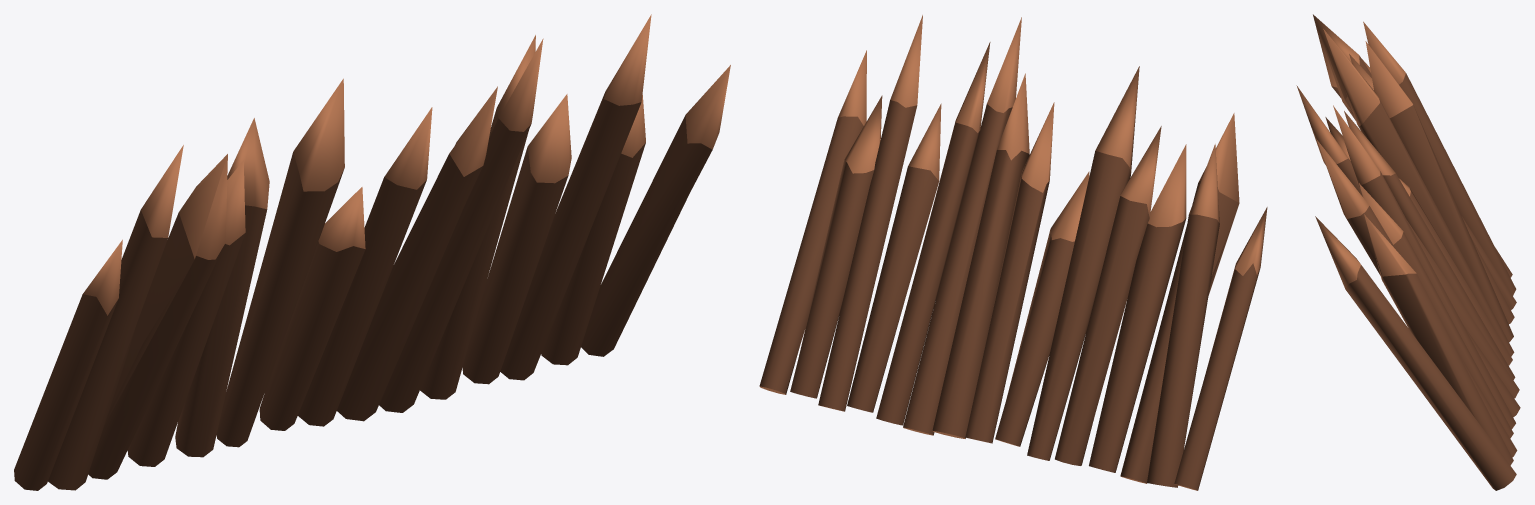
File: wooden budged.fbx
The picture shows the model from 3 angles, left to right: view 1: azimuth 30°, elevation 25°; view 2: azimuth 150°, elevation 25°; view 3: azimuth 270°, elevation 25°; orthographic projection. The views are drawn at different scales.
Visible parts, largest first — view 1: wooden_budged10, wooden_budged5, wooden_budged12, wooden_budged8, wooden_budged1, wooden_budged14, wooden_budged7, wooden_budged3, wooden_budged4, wooden_budged11, wooden_budged, wooden_budged6 (+3 smaller); view 2: wooden_budged10, wooden_budged8, wooden_budged2, wooden_budged12, wooden_budged14, wooden_budged4, wooden_budged, wooden_budged13, wooden_budged3, wooden_budged1, wooden_budged9, wooden_budged7 (+3 smaller); view 3: wooden_budged7, wooden_budged9, wooden_budged, wooden_budged10, wooden_budged13, wooden_budged4, wooden_budged3, wooden_budged1, wooden_budged12, wooden_budged14, wooden_budged5, wooden_budged8 (+2 smaller).
Part boxes in pixels (bbox=[...]): wooden_budged10: bbox=[216, 78, 344, 447]; wooden_budged5: bbox=[88, 154, 227, 479]; wooden_budged12: bbox=[500, 14, 651, 380]; wooden_budged8: bbox=[337, 86, 497, 421]; wooden_budged1: bbox=[462, 94, 571, 384]; wooden_budged14: bbox=[379, 38, 543, 412]; wooden_budged7: bbox=[581, 65, 730, 356]; wooden_budged3: bbox=[298, 107, 432, 426]; wooden_budged4: bbox=[48, 145, 183, 490]; wooden_budged11: bbox=[259, 187, 365, 430]; wooden_budged: bbox=[175, 118, 269, 457]; wooden_budged6: bbox=[14, 239, 122, 490]; wooden_budged10: bbox=[1027, 66, 1139, 460]; wooden_budged8: bbox=[932, 73, 1029, 438]; wooden_budged2: bbox=[1089, 144, 1186, 472]; wooden_budged12: bbox=[818, 15, 922, 411]; wooden_budged14: bbox=[903, 17, 1021, 435]; wooden_budged4: bbox=[1147, 144, 1219, 487]; wooden_budged: bbox=[1055, 126, 1161, 465]; wooden_budged13: bbox=[876, 42, 990, 425]; wooden_budged3: bbox=[965, 102, 1054, 443]; wooden_budged1: bbox=[847, 103, 941, 412]; wooden_budged9: bbox=[790, 95, 882, 398]; wooden_budged7: bbox=[759, 50, 866, 394]; wooden_budged7: bbox=[1315, 216, 1516, 490]; wooden_budged9: bbox=[1364, 214, 1513, 465]; wooden_budged: bbox=[1365, 41, 1513, 342]; wooden_budged10: bbox=[1323, 29, 1514, 356]; wooden_budged13: bbox=[1333, 105, 1515, 428]; wooden_budged4: bbox=[1363, 21, 1516, 295]; wooden_budged3: bbox=[1344, 111, 1515, 379]; wooden_budged1: bbox=[1359, 183, 1513, 438]; wooden_budged12: bbox=[1316, 139, 1517, 457]; wooden_budged14: bbox=[1296, 85, 1520, 417]; wooden_budged5: bbox=[1313, 14, 1516, 309]; wooden_budged8: bbox=[1325, 117, 1519, 398].
Size of the model in its own units: 11.59 by 8.65 by 5.17.
